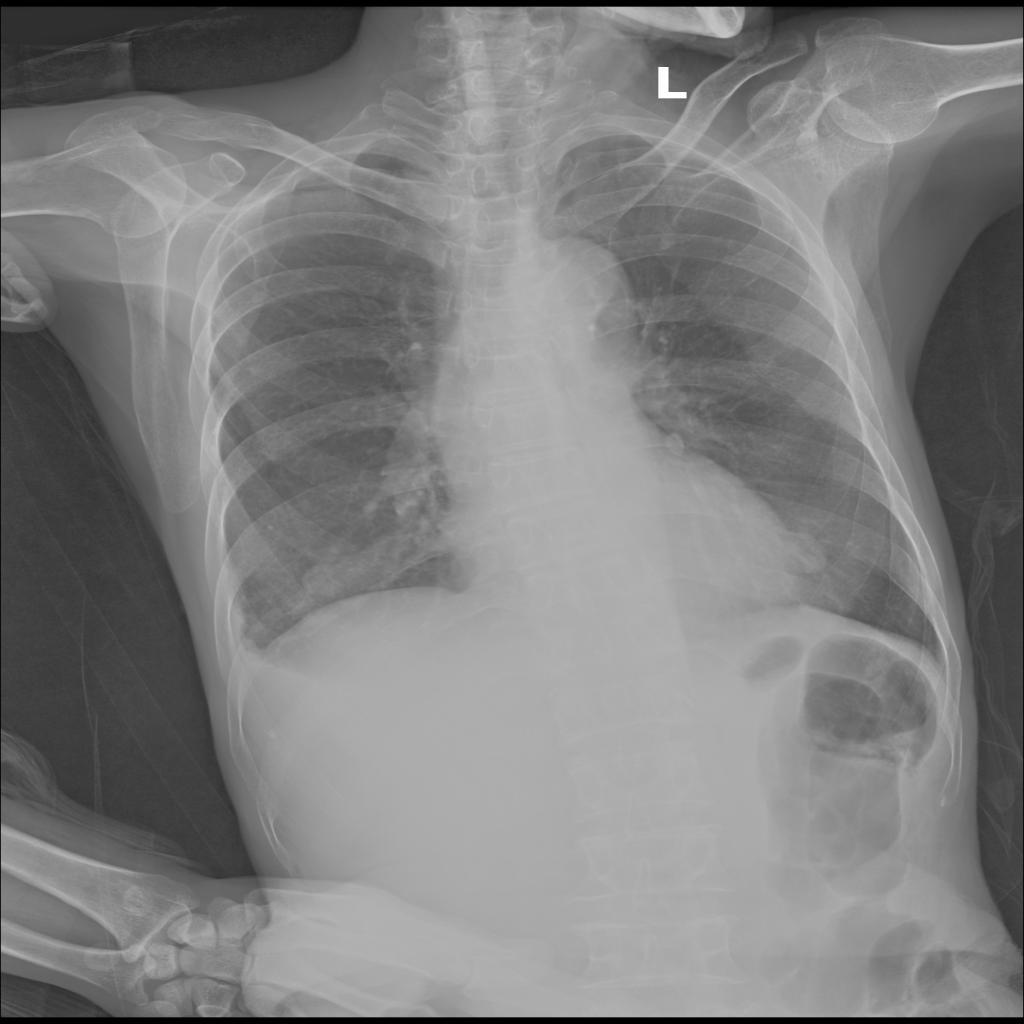Nodule: (791, 537, 832, 577), (299, 567, 344, 597)
